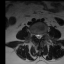CCS_normal: (37, 32, 39, 41)
LFS_normal: (41, 31, 44, 38)
LLS_normal: (39, 32, 41, 40)
RFS_normal: (33, 31, 35, 37)
RLS_normal: (35, 32, 37, 40)
